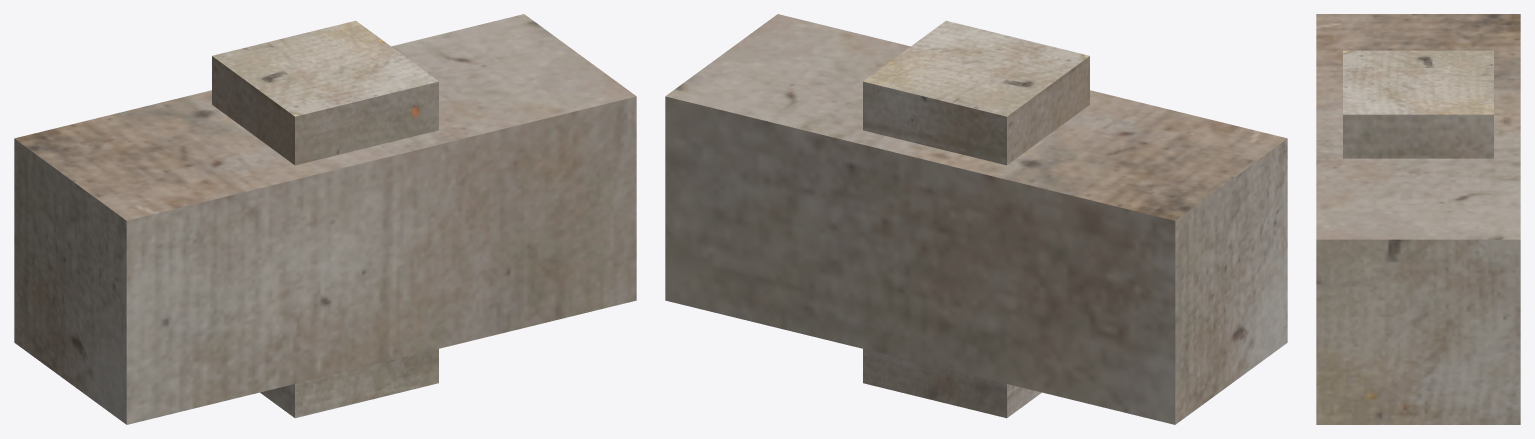
The model's file is TDB_Packages.fbx.
3 renders of one model, left to right at view 1: azimuth 30°, elevation 25°; view 2: azimuth 150°, elevation 25°; view 3: azimuth 270°, elevation 25°, orthographic. The views are drawn at different scales.
Visible parts, largest first — view 1: Wide Package, Tall Package; view 2: Wide Package, Tall Package; view 3: Wide Package, Tall Package.
Part boxes in pixels (left/top/right/bottom): Wide Package: left=14, top=14, right=636, bottom=424; Tall Package: left=212, top=20, right=438, bottom=418; Wide Package: left=665, top=14, right=1287, bottom=424; Tall Package: left=863, top=20, right=1089, bottom=418; Wide Package: left=1316, top=14, right=1520, bottom=424; Tall Package: left=1343, top=50, right=1493, bottom=158.
Size of the model in its own units: 0.9613 by 0.3677 by 0.5432.
